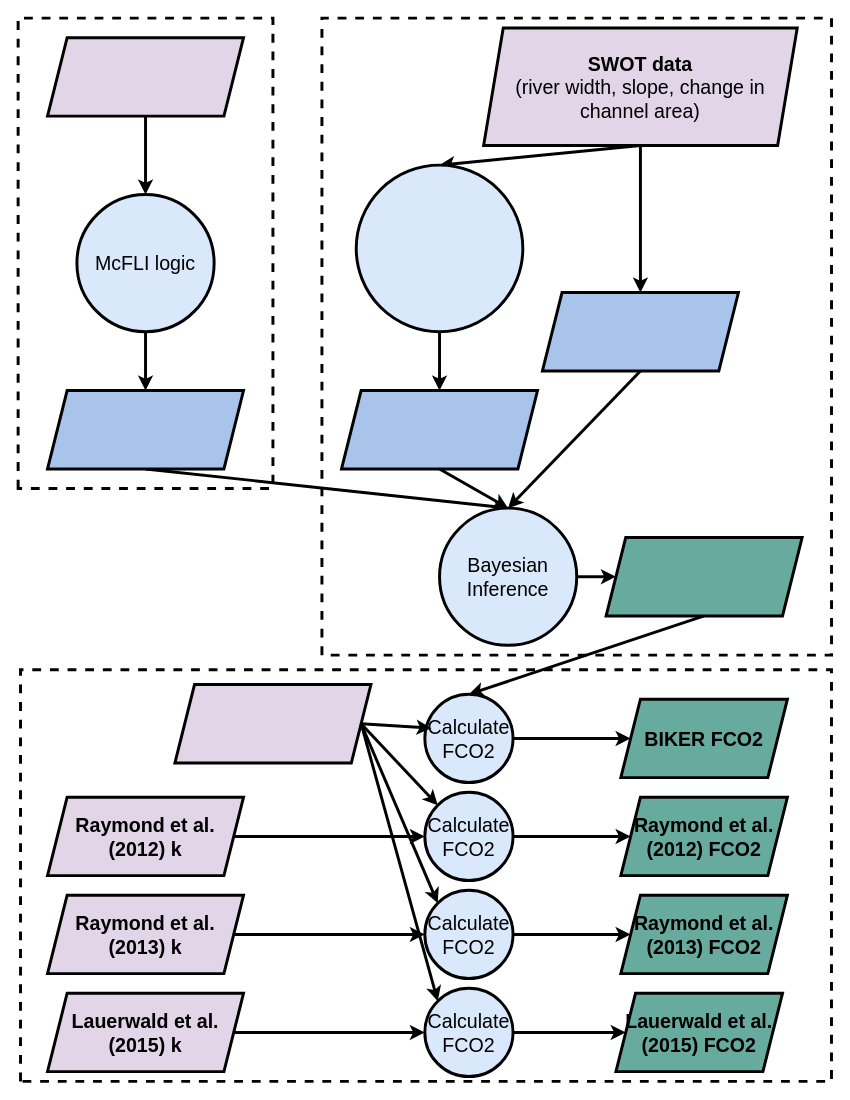
Image size: 850x1100. Some labels were removed from this diagram. The centre of each missing label's shape, as x and y in pixels:
"Bayesian Data" belongs at (639,331).
"Bayesian priors" belongs at (439,429).
"Bayesian Sampling Model" belongs at (145,429).
"Beaulieu et al. (2012) CO2 data" belongs at (272,723).
"Generate hydraulic priors (Brinkerhoff et al. 2020)" belongs at (439,248).
"Probability distribution of k" belongs at (703,576).
"Wang et al. (2021) Predictive Model" belongs at (145,76).
